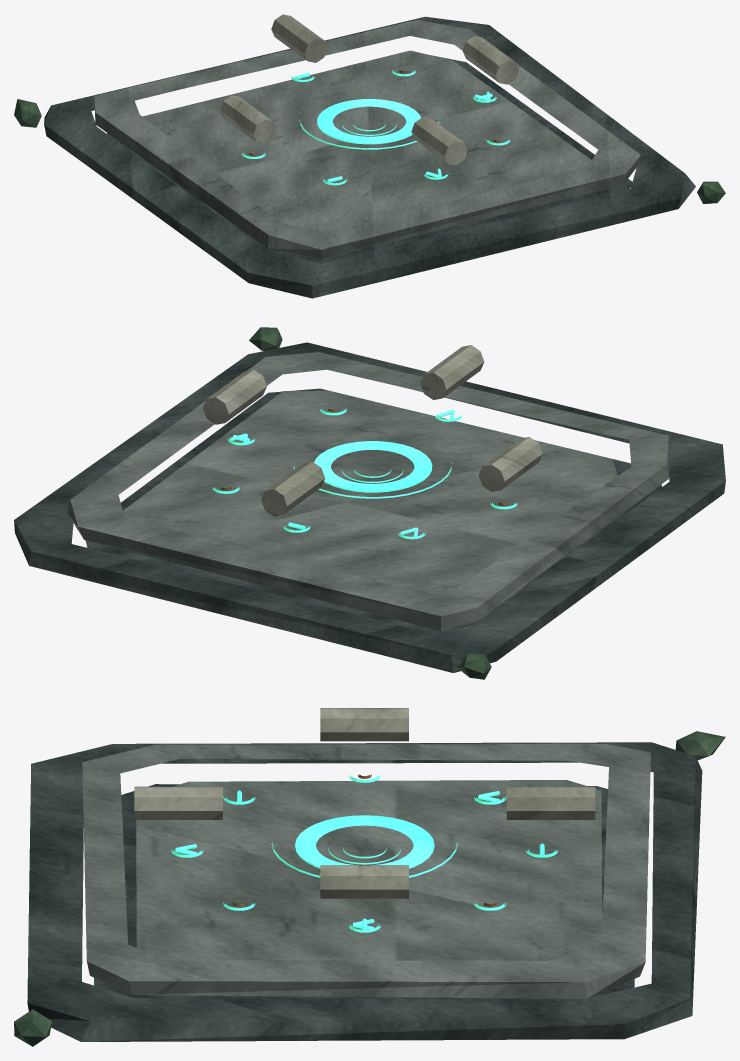
The model's file is 0564_rune_dais_14.glb.
3 views of the same model, one above another, from view 1: azimuth 30°, elevation 25°; view 2: azimuth 150°, elevation 25°; view 3: azimuth 270°, elevation 25° (orthographic). The views are drawn at different scales.
Visible parts, largest first — view 1: stone, stone_dark, stone_light, glow, moss; view 2: stone, stone_dark, stone_light, glow, moss; view 3: stone, stone_dark, stone_light, glow, moss.
Part boxes in pixels (left/top/right/bottom): stone: left=94, top=19, right=640, bottom=258; stone_dark: left=44, top=16, right=695, bottom=298; stone_light: left=220, top=14, right=518, bottom=165; glow: left=242, top=70, right=510, bottom=185; moss: left=14, top=99, right=725, bottom=203; stone: left=67, top=352, right=668, bottom=630; stone_dark: left=14, top=342, right=725, bottom=672; stone_light: left=203, top=345, right=542, bottom=516; glow: left=212, top=408, right=517, bottom=539; moss: left=249, top=327, right=491, bottom=679; stone: left=82, top=744, right=650, bottom=998; stone_dark: left=27, top=742, right=702, bottom=1041; stone_light: left=134, top=708, right=595, bottom=898; glow: left=171, top=774, right=557, bottom=932; moss: left=14, top=731, right=725, bottom=1046.
Bounding box in the file's own units: 3.94 × 0.711 × 4.01.
Materials: 6 (6 with a texture image).
